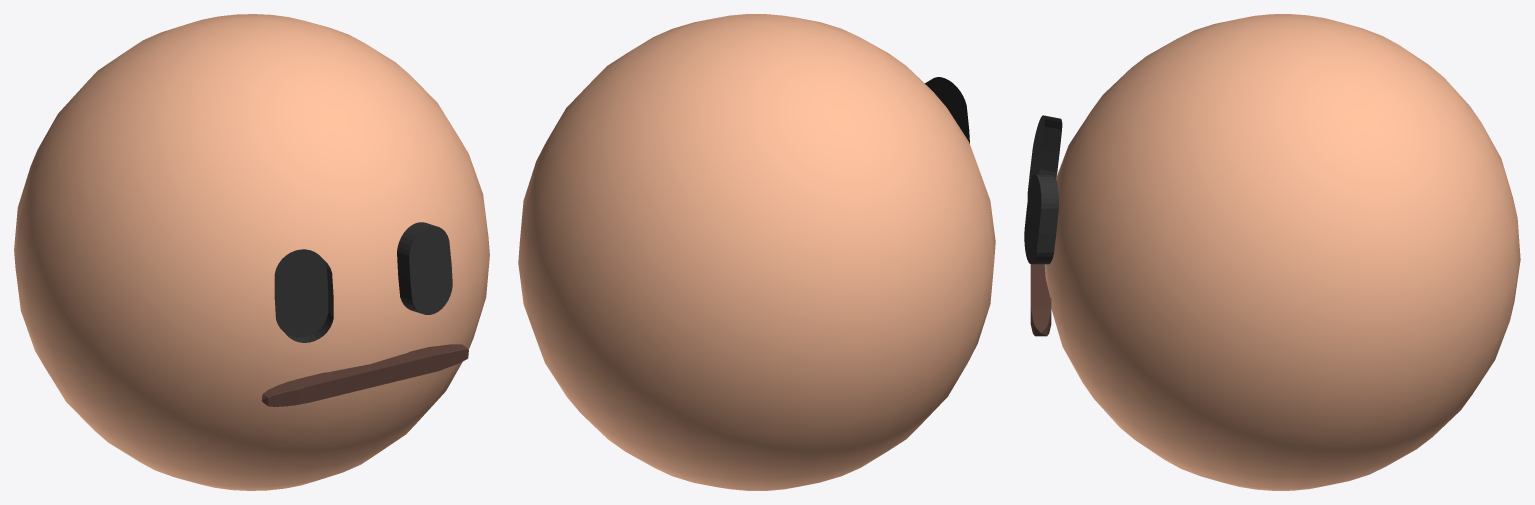
The model's file is Emoji3D-model.glb.
3 renders of one model, left to right at view 1: azimuth 30°, elevation 25°; view 2: azimuth 150°, elevation 25°; view 3: azimuth 270°, elevation 25°, orthographic.
Visible parts, largest first — view 1: 頭, 口.001; view 2: 頭; view 3: 頭, 口.001.
Boxes of the visible parts, x1,y1,x2,y2 form: 頭: (14, 14, 489, 490); 口.001: (261, 344, 468, 406); 頭: (518, 14, 995, 490); 頭: (1024, 14, 1520, 490); 口.001: (1030, 264, 1051, 336).
Size of what is drawn, in the model's own units: 6.9 by 6.89 by 7.16.
